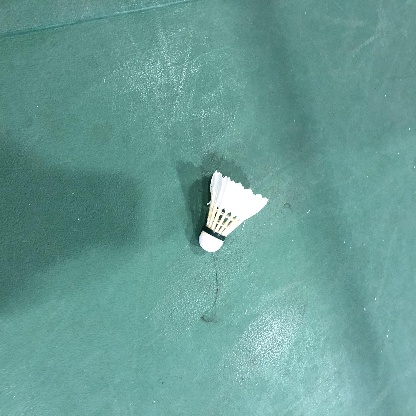ball_single: (199, 170, 269, 252)
